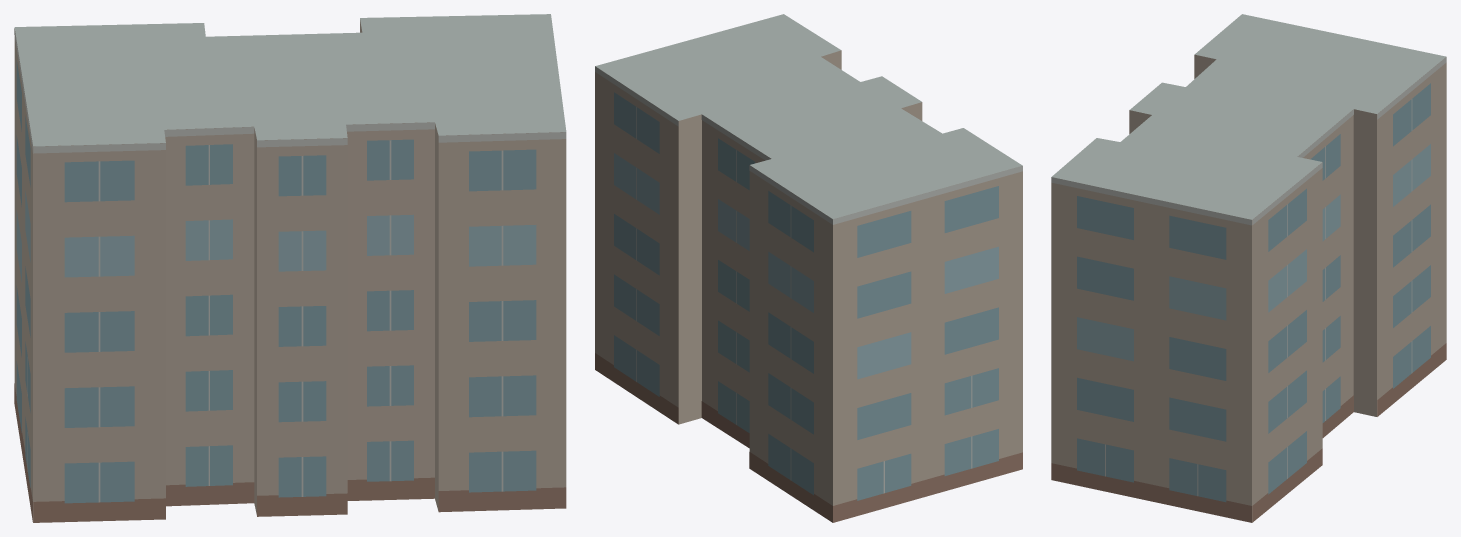
The model's file is survey-upis-32885867.glb.
3 renders of one model, left to right at view 1: azimuth 30°, elevation 25°; view 2: azimuth 150°, elevation 25°; view 3: azimuth 270°, elevation 25°, orthographic. The views are drawn at different scales.
Parts seen in each view (by area): view 1: survey-upis-32885867.tmp; view 2: survey-upis-32885867.tmp; view 3: survey-upis-32885867.tmp.
Boxes of the visible parts, <box> form: survey-upis-32885867.tmp: <box>14,14,566,522</box>; survey-upis-32885867.tmp: <box>595,14,1022,522</box>; survey-upis-32885867.tmp: <box>1051,14,1446,522</box>.
Size of the model in its own units: 18.95 by 13 by 15.38.
